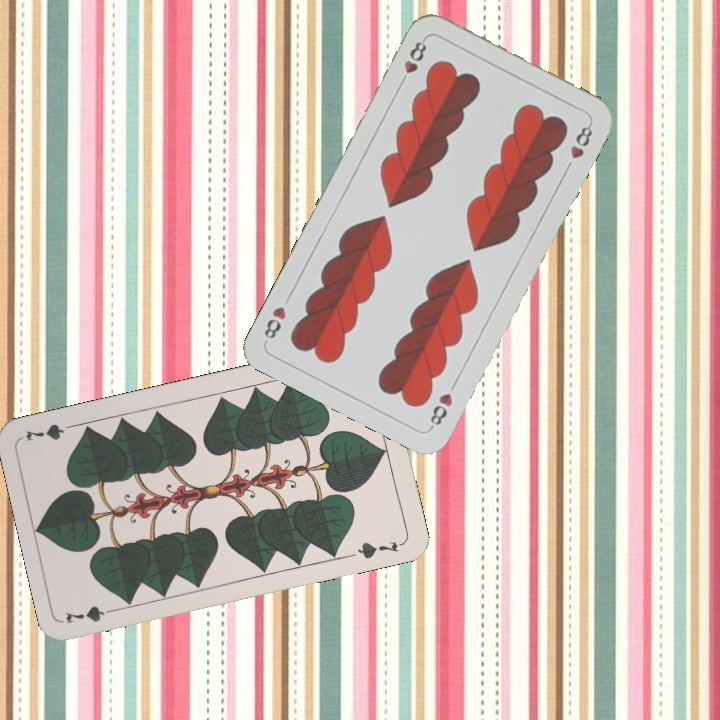G7: (61, 601, 121, 626)
H8: (395, 34, 430, 89), (426, 388, 456, 432)
